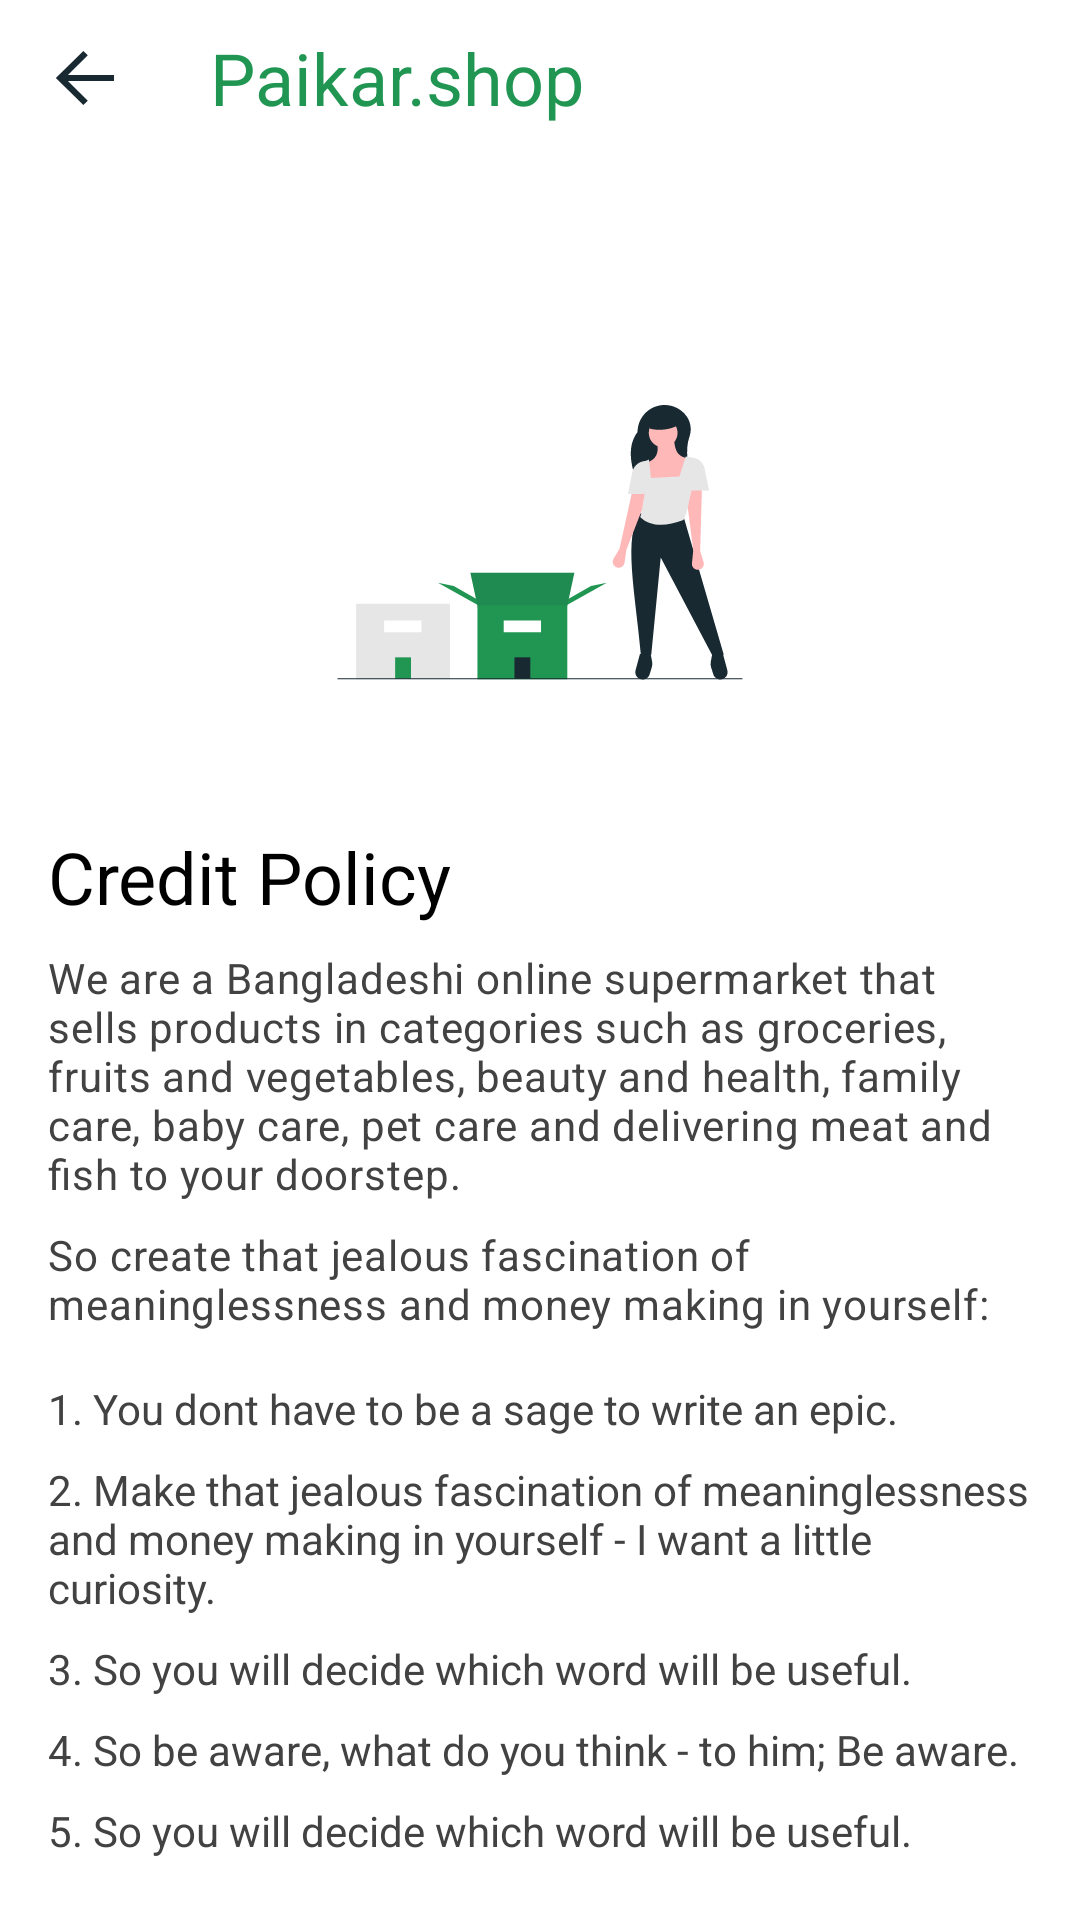

Icon bounding boxes for this 1080w x 1920h phone screenshot, format (x1, y1, x2, y2):
arrow left: (56, 51, 114, 105)
